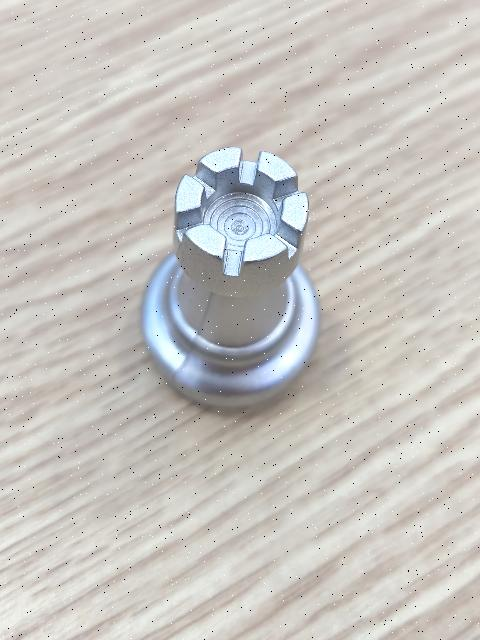white_rook: (144, 147, 323, 407)
